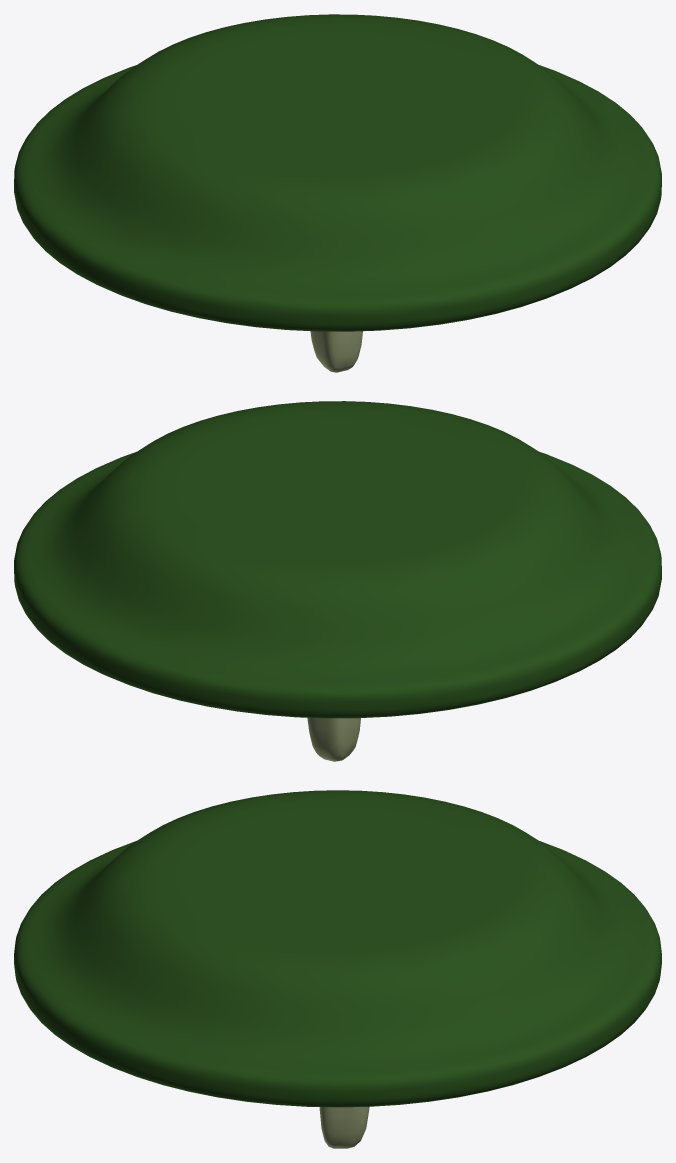
The model's file is Mushrom 6.fbx.
3 views of the same model, one above another, from view 1: azimuth 30°, elevation 25°; view 2: azimuth 150°, elevation 25°; view 3: azimuth 270°, elevation 25° (orthographic).
Visible parts, largest first — view 1: Cylinder, Cube; view 2: Cylinder, Cube; view 3: Cylinder, Cube.
Part boxes in pixels (x1=…): Cylinder: x1=14, y1=14, x2=661, y2=331; Cube: x1=310, y1=331, x2=362, y2=372; Cylinder: x1=14, y1=401, x2=661, y2=718; Cube: x1=307, y1=717, x2=360, y2=761; Cylinder: x1=14, y1=790, x2=661, y2=1107; Cube: x1=319, y1=1107, x2=369, y2=1148.
Size of the model in its own units: 410 by 188 by 410.
